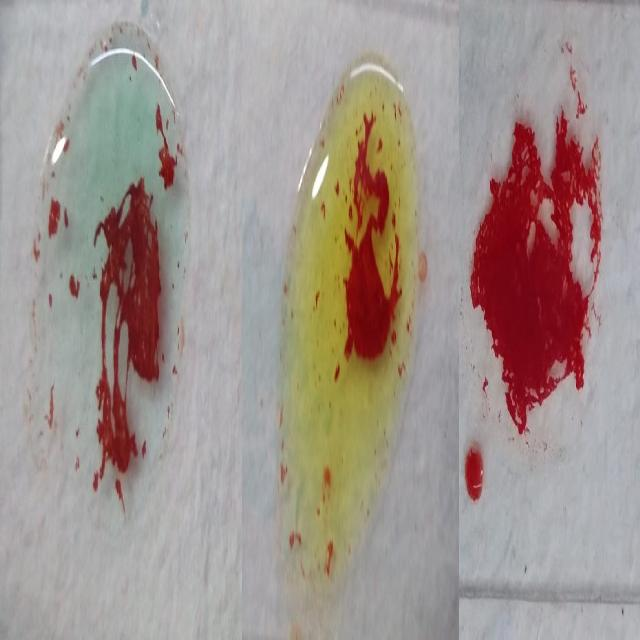A: (34, 9, 190, 555)
B: (280, 45, 424, 594)
D: (473, 45, 606, 459)
